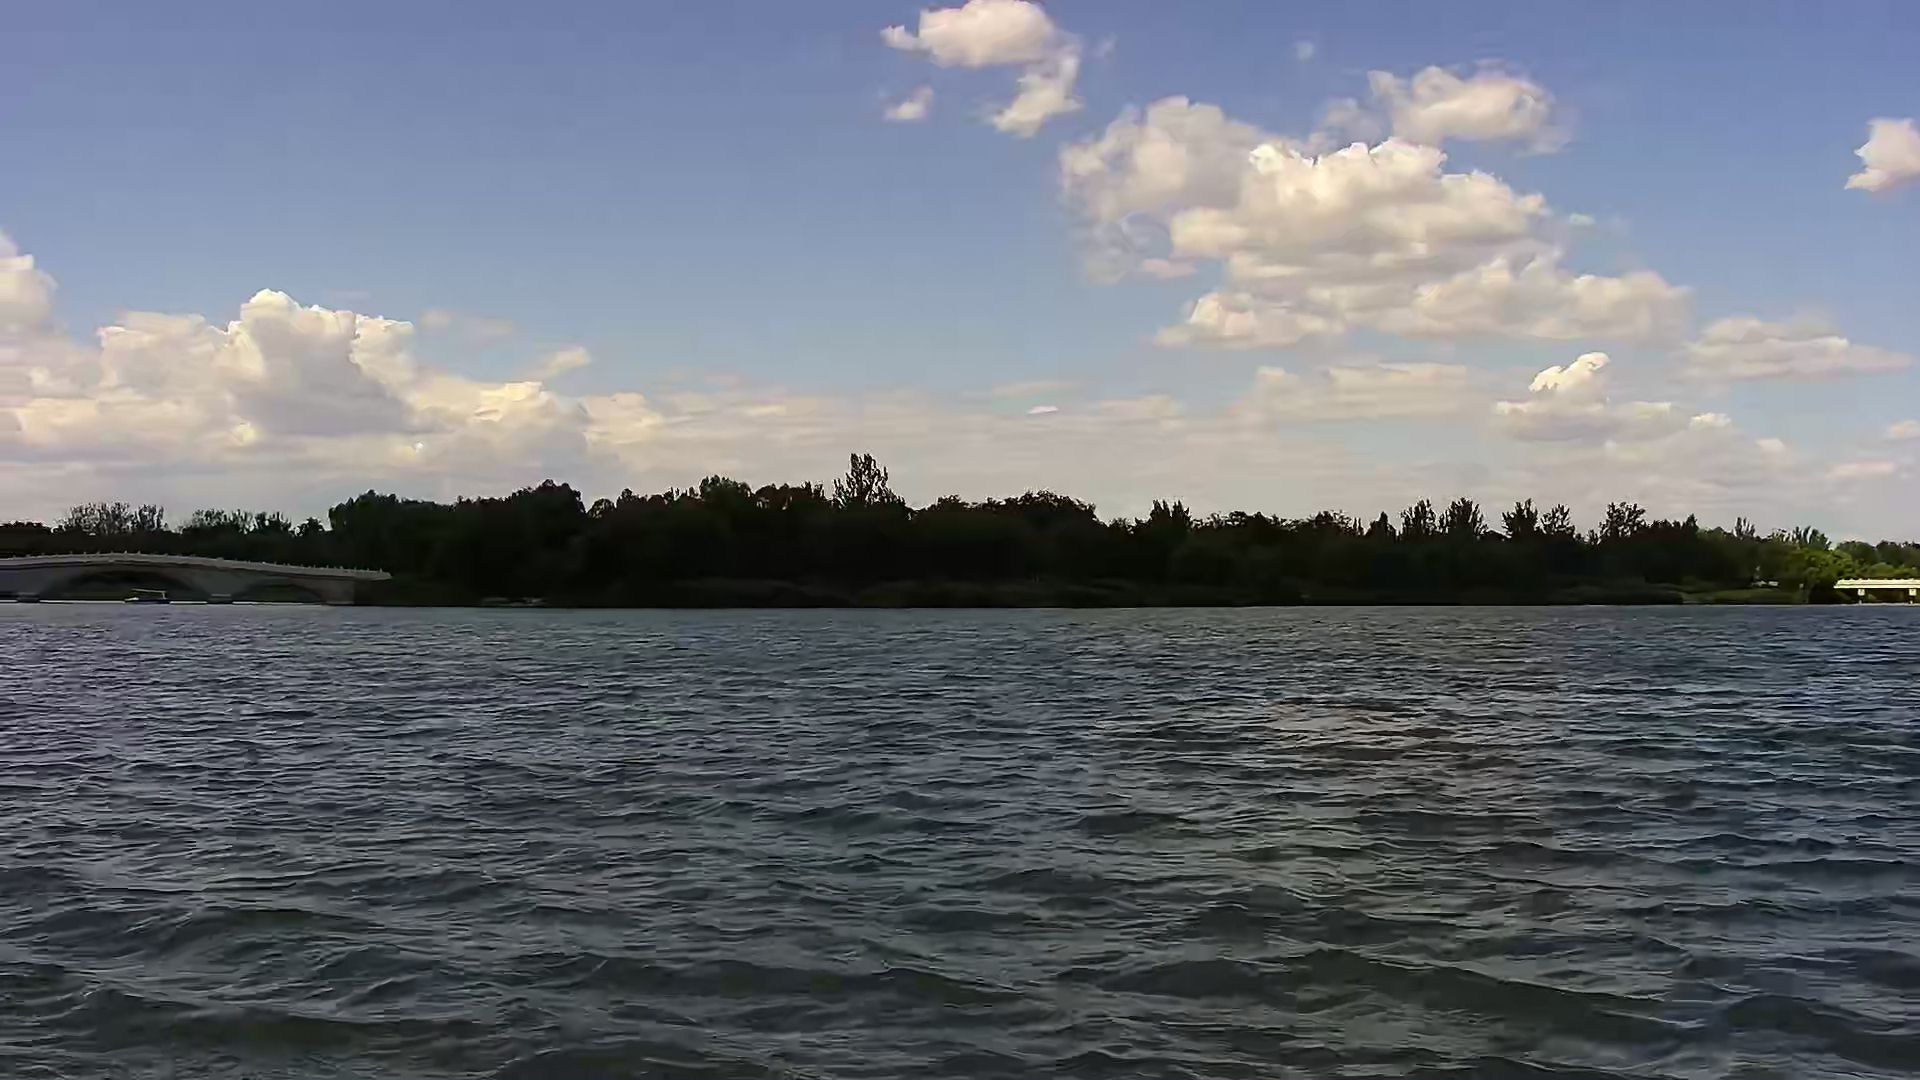boat: (123, 585, 174, 611)
bridge: (1, 551, 409, 607), (1828, 574, 1917, 608)
